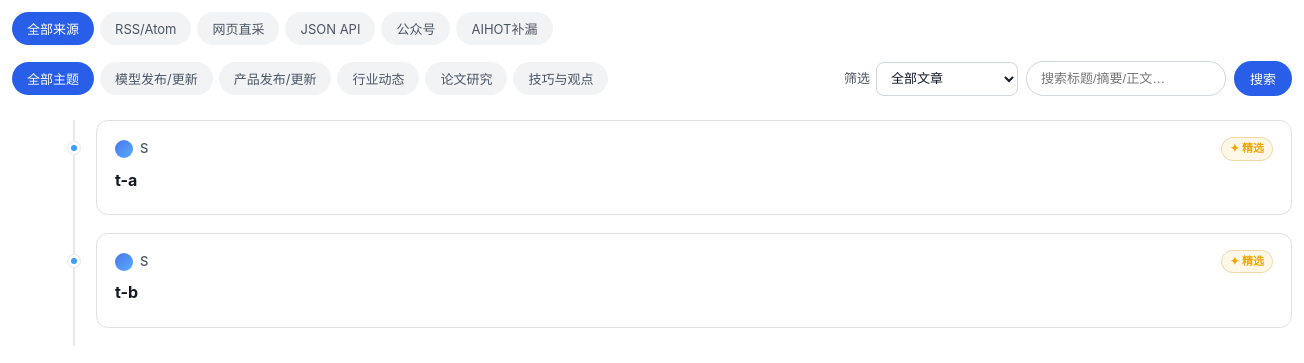
Test: Feed › switching the source toggle refetches with source_kind and resets the list
This screenshot has width=1304, height=363.
expect the link "t-a" is shown: met, box 115,170 -> 137,190
Click the button "公众号". click: {"x": 416, "y": 28}
box: 381,12 -> 450,45
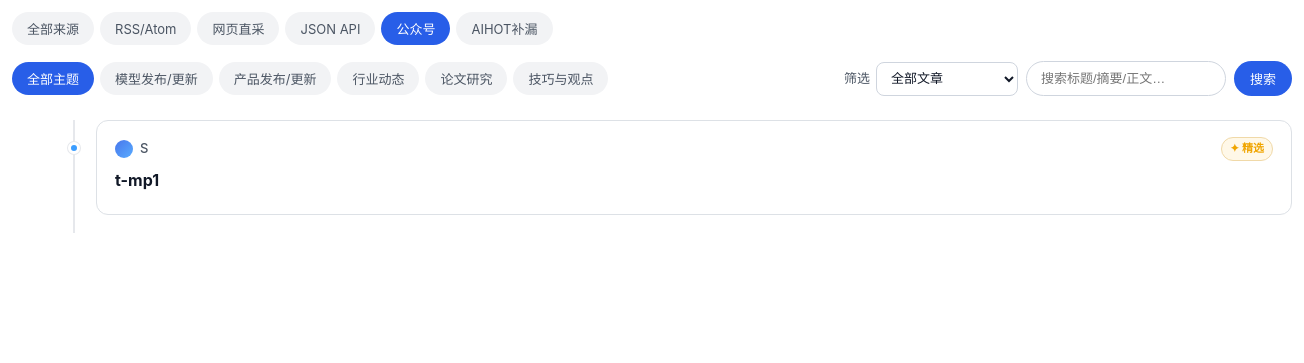
expect the link "t-mp1" is shown: met, box 115,170 -> 159,190
expect the link "t-a" is gone: met
